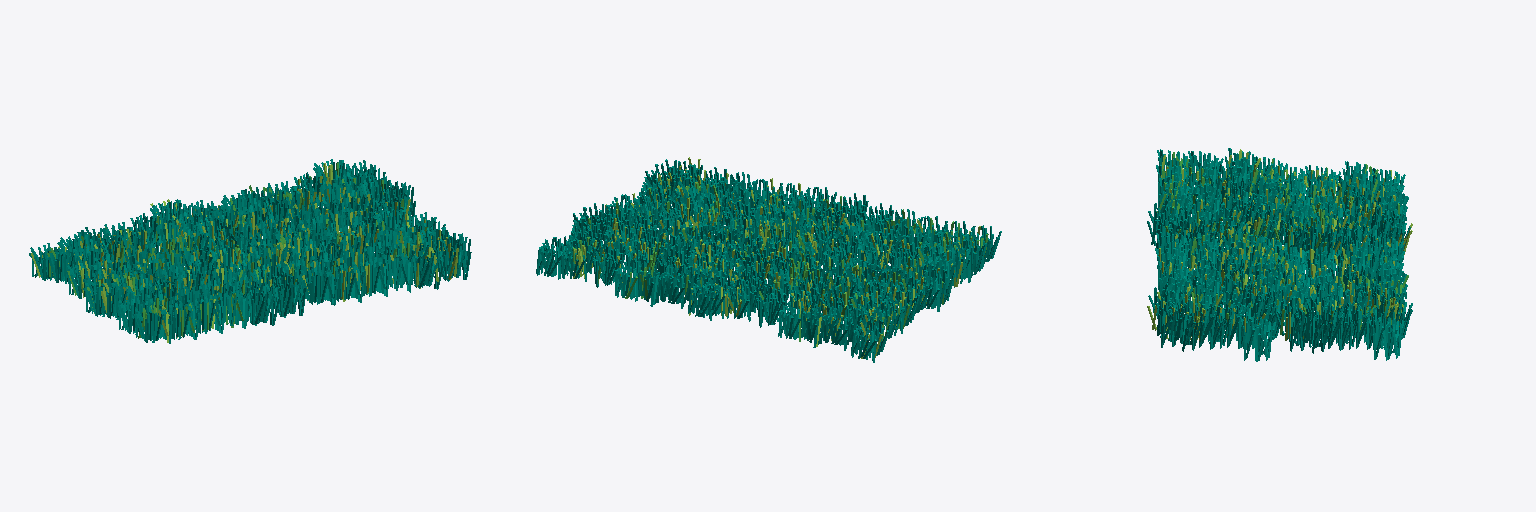
3 renders of one model, left to right at view 1: azimuth 30°, elevation 25°; view 2: azimuth 150°, elevation 25°; view 3: azimuth 270°, elevation 25°, orthographic.
Parts seen in each view (by area): view 1: group[number redacted], group[number redacted]; view 2: group[number redacted], group[number redacted]; view 3: group[number redacted], group[number redacted].
Part boxes in pixels (x1,y1,x2,y2): group[number redacted]: (29,199,306,343); group[number redacted]: (194,159,471,305); group[number redacted]: (700,193,1001,362); group[number redacted]: (536,157,836,320); group[number redacted]: (1147,229,1412,361); group[number redacted]: (1147,148,1412,266).
Bounding box in the file's own units: 4.07 × 0.5931 × 2.66.